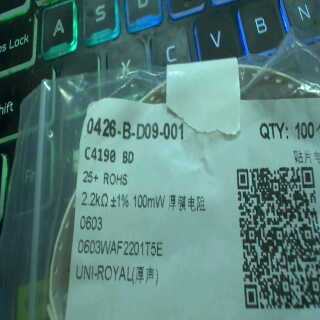2.2kR: (79, 187, 110, 211)
